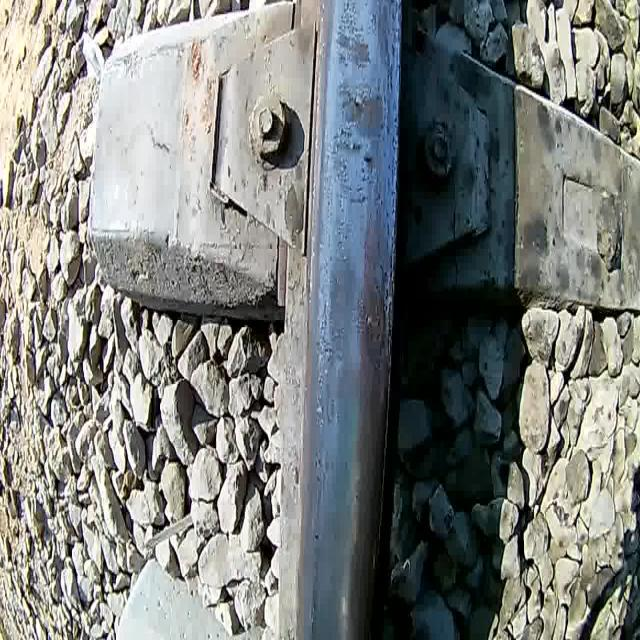Spallings: (362, 298, 387, 349)
Squats: (330, 82, 386, 172), (322, 241, 358, 369), (356, 253, 390, 383), (331, 0, 372, 74), (371, 0, 398, 92)
